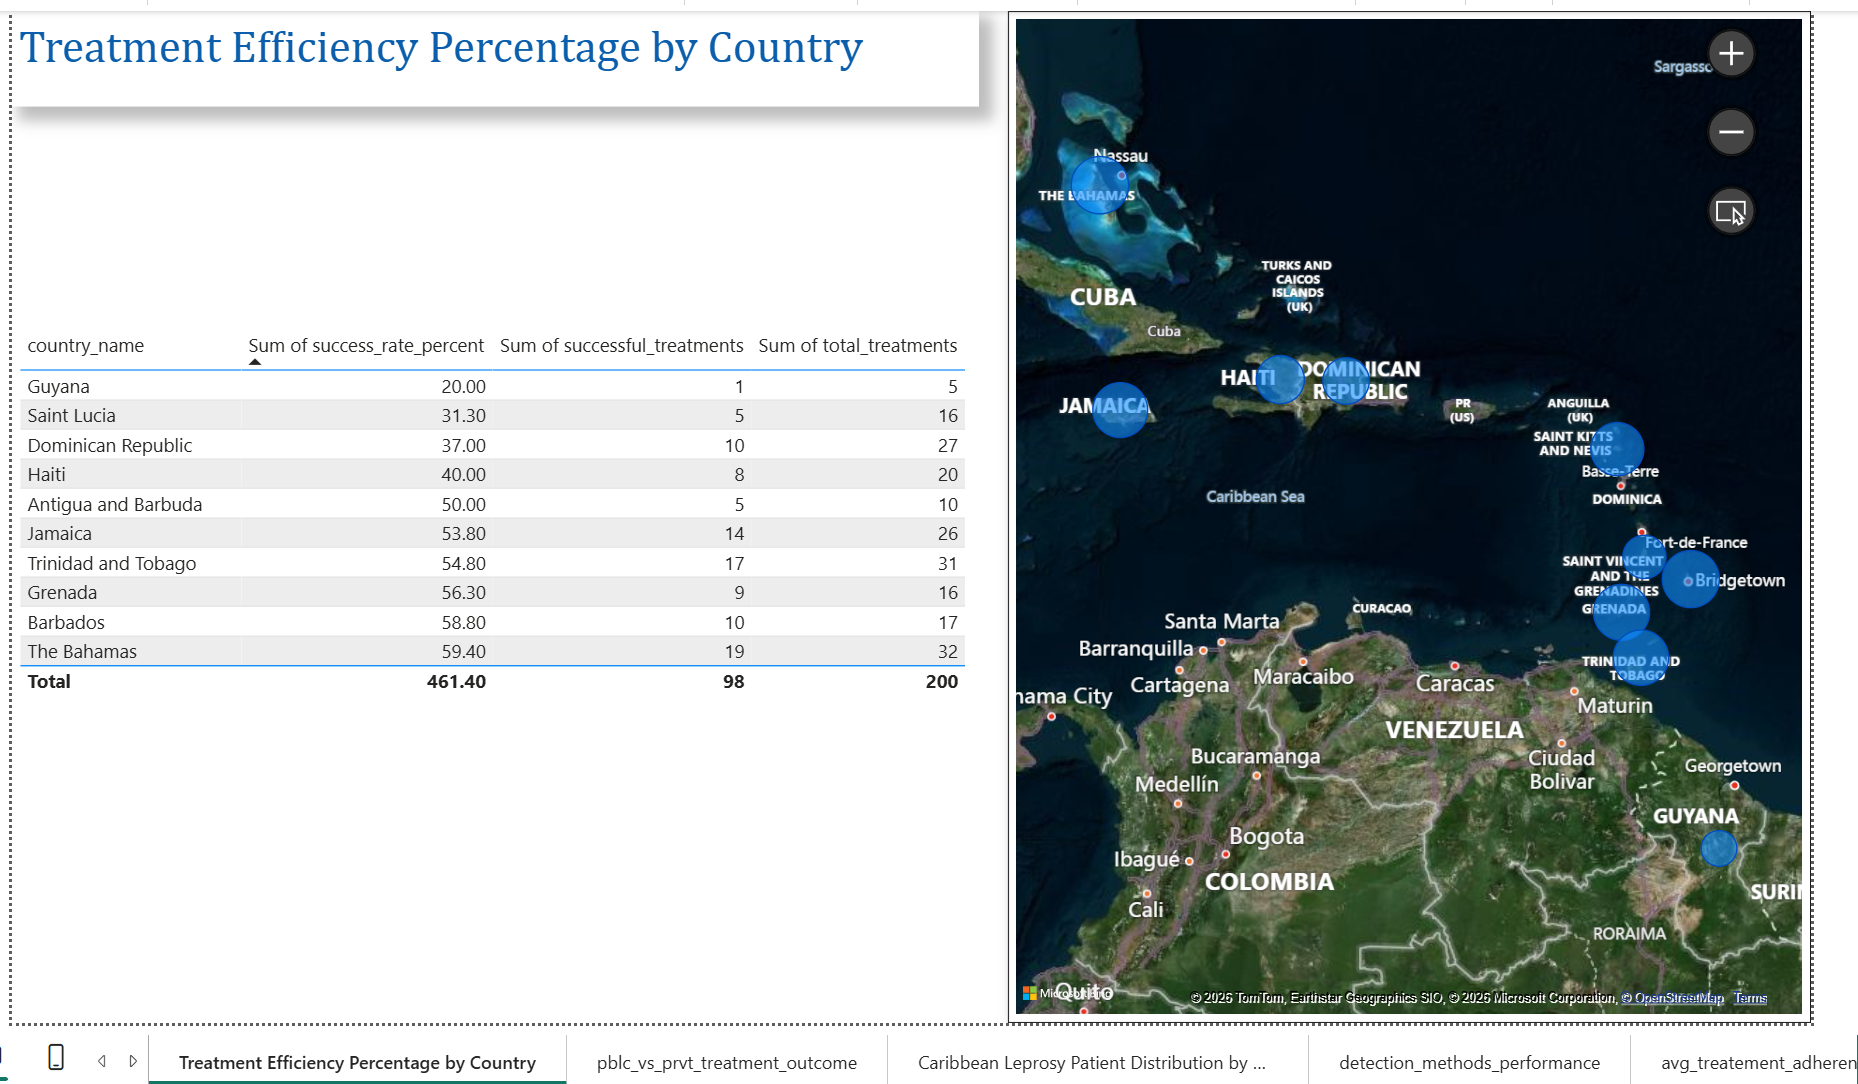

What the dashboard file says about the page in this screenshot:
{"tool":"powerbi","page":{"name":"Treatment Efficiency Percentage by Country","canvas":[1280,720],"ordinal":0},"visuals":[{"type":"map","fields":{"Category":["treatment_efficiency_percent_by_country.country_name"],"Size":["Sum(treatment_efficiency_percent_by_country.success_rate_percent)"]},"box":[709.1,0,571.3,719.7],"z":1000},{"type":"tableEx","fields":{"Values":["treatment_efficiency_percent_by_country.country_name","Sum(treatment_efficiency_percent_by_country.success_rate_percent)","Sum(treatment_efficiency_percent_by_country.successful_treatments)","Sum(treatment_efficiency_percent_by_country.total_treatments)"]},"box":[0,221.4,687.9,278],"z":2000},{"type":"textbox","box":[0,0,687.9,68.3],"z":3000}]}

Visuals, with their boxes on the page's 1280x720 design canvas (x1, y1, x2, y2). These are canvas units, not pixel positions in the 1858x1084 screenshot, which may show the page scaled, cropped or inside an application window:
map - treatment_efficiency_percent_by_country.country_name x Sum(treatment_efficiency_percent_by_country.success_rate_percent): [left=709, top=0, right=1280, bottom=720]
tableEx - treatment_efficiency_percent_by_country.country_name x Sum(treatment_efficiency_percent_by_country.success_rate_percent): [left=0, top=221, right=688, bottom=499]
textbox: [left=0, top=0, right=688, bottom=68]
